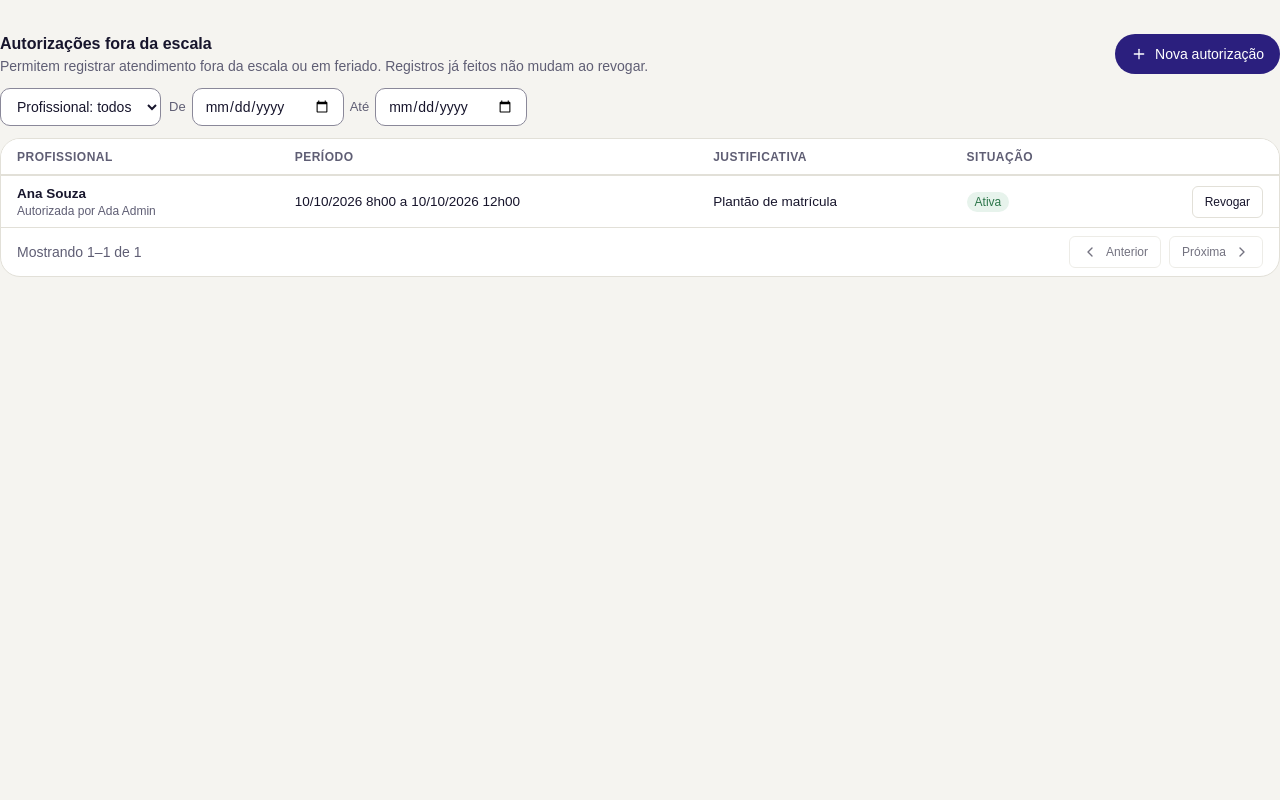
Test: AutorizacoesForaEscala › Falha_ao_revogar_fica_no_dialogo
This screenshot has width=1280, height=800.
Click the button with aria-label "Revogar autorização de Ana Souza" at (1227, 202), box x1=1192 y1=186 x2=1263 y2=218
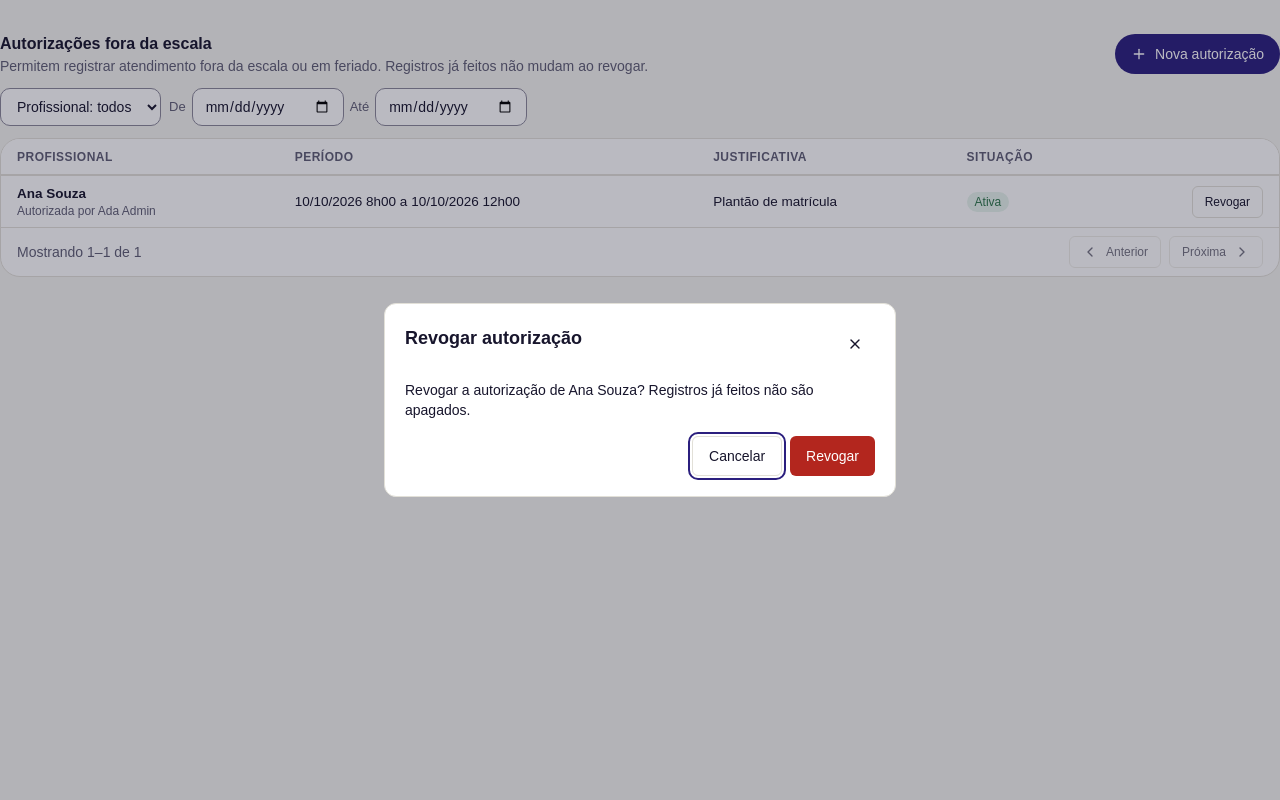
Click the button "Revogar" at (833, 456), box x1=790 y1=436 x2=875 y2=476
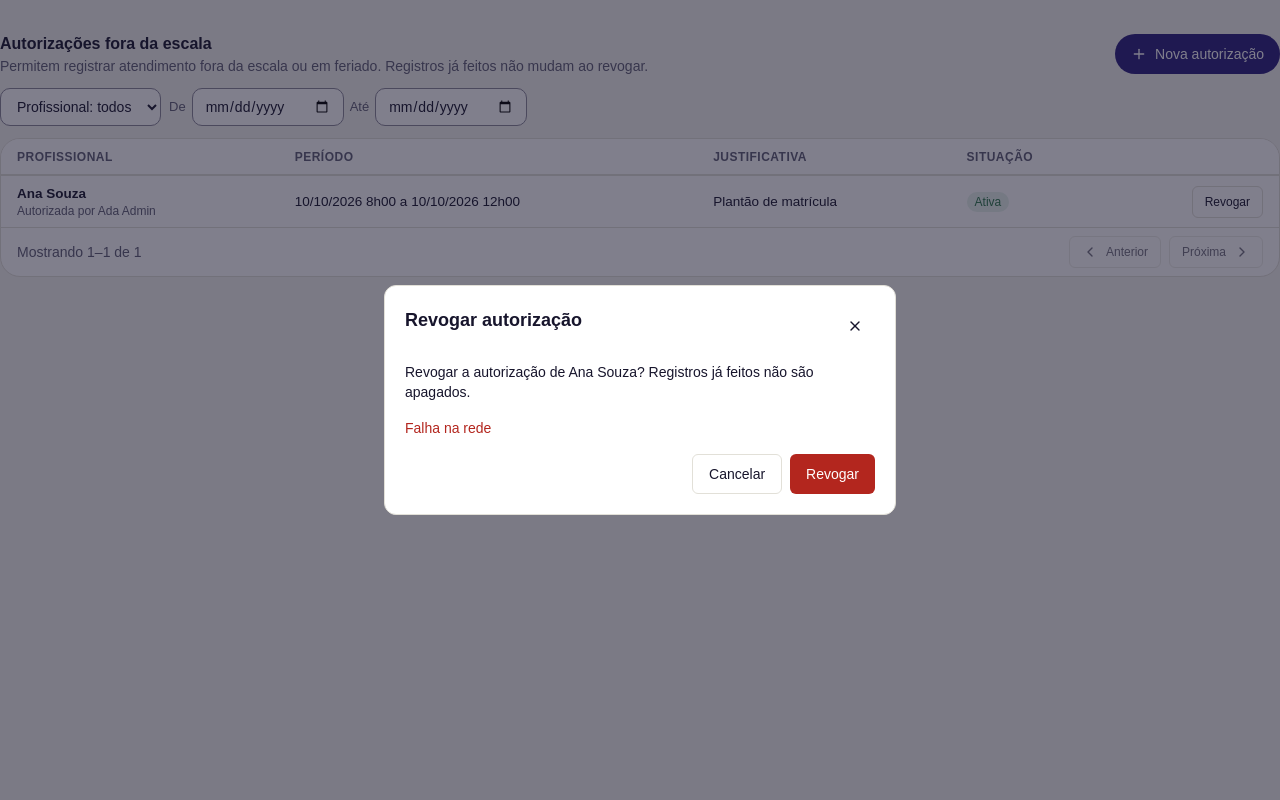
Result: the dialog is shown at x1=384 y1=285 x2=896 y2=515
Result: the message reads "Falha na rede" at x1=405 y1=420 x2=491 y2=436
